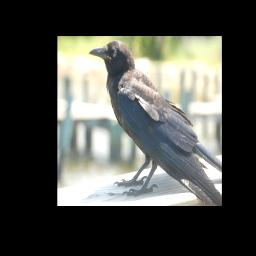Crow: (88, 41, 221, 206)
